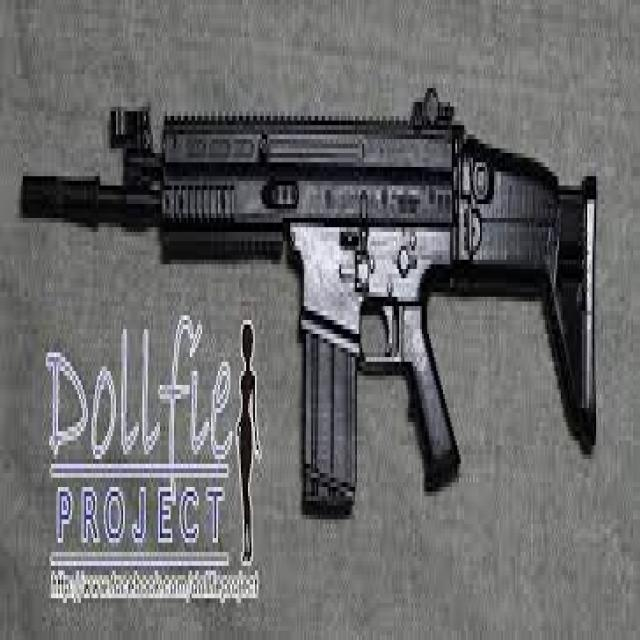Gun: (9, 62, 618, 515)
